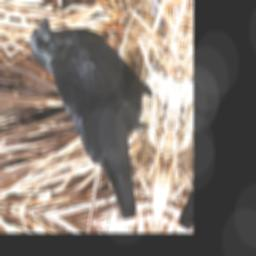Crow: (5, 13, 165, 223)
